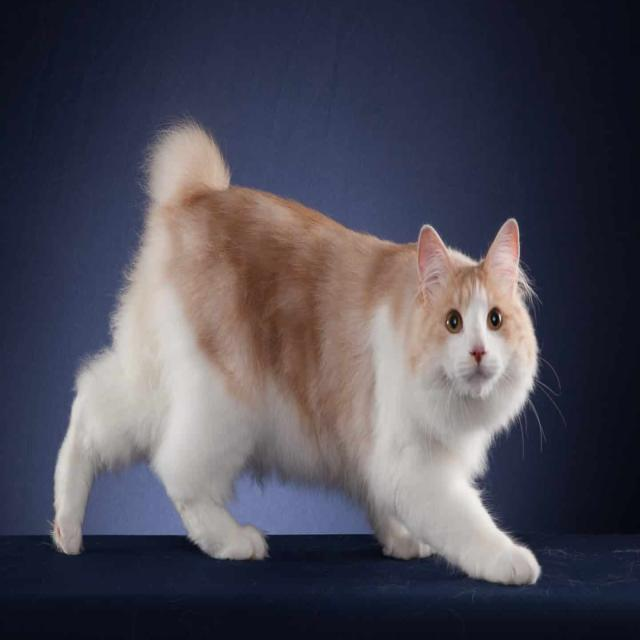American Bobtail: (49, 118, 546, 598)
